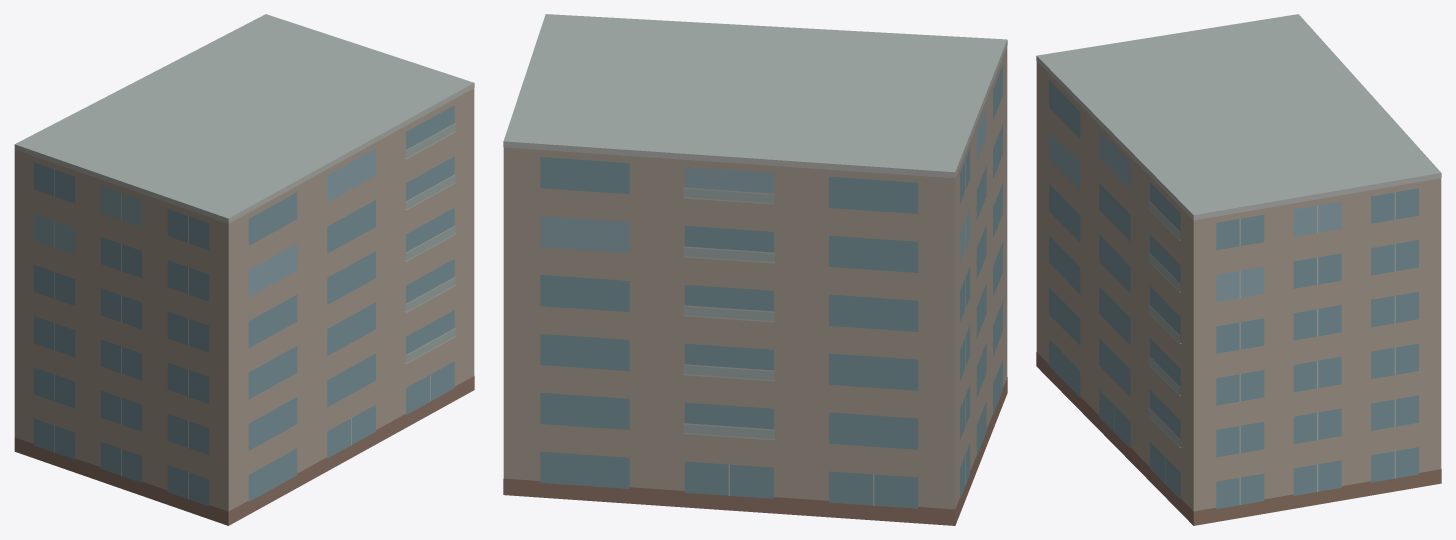
Rendered from survey-upis-32853803.glb.
3 renders of one model, left to right at view 1: azimuth 30°, elevation 25°; view 2: azimuth 150°, elevation 25°; view 3: azimuth 270°, elevation 25°, orthographic. The views are drawn at different scales.
Parts seen in each view (by area): view 1: survey-upis-32853803.tmp; view 2: survey-upis-32853803.tmp; view 3: survey-upis-32853803.tmp.
Boxes of the visible parts, x1,y1,x2,y2 form: survey-upis-32853803.tmp: (14, 14, 474, 525); survey-upis-32853803.tmp: (503, 14, 1007, 525); survey-upis-32853803.tmp: (1036, 14, 1441, 525).
Size of the model in its own units: 19.94 by 14.35 by 16.96.
